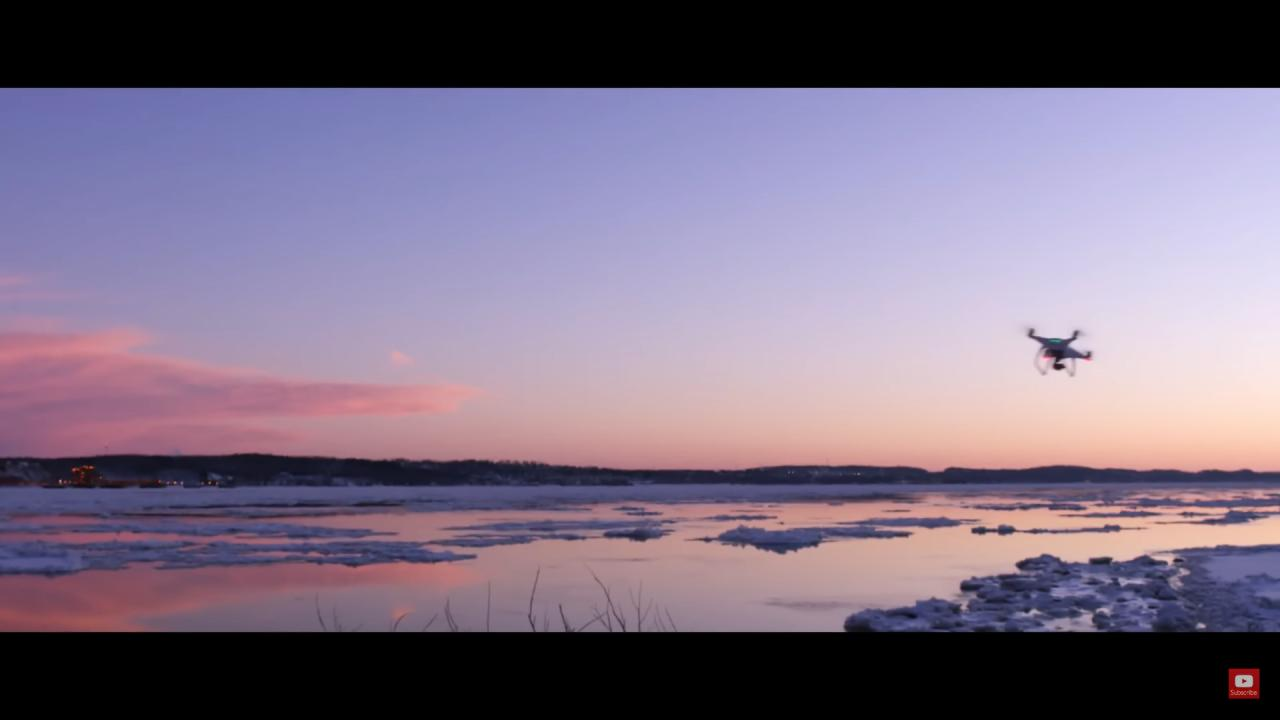Drone: (1016, 315, 1098, 384)
